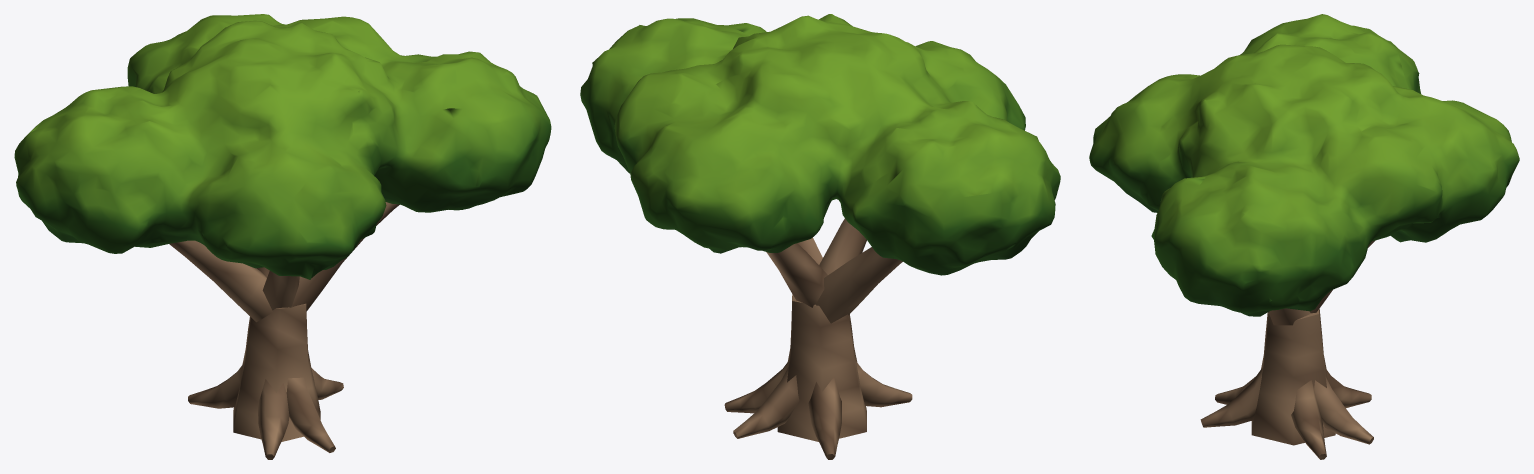
The model's file is SM_StylizedTree2.fbx.
3 views of the same model, side by side, from view 1: azimuth 30°, elevation 25°; view 2: azimuth 150°, elevation 25°; view 3: azimuth 270°, elevation 25° (orthographic). The views are drawn at different scales.
Parts seen in each view (by area): view 1: SM_StylizedTree2; view 2: SM_StylizedTree2; view 3: SM_StylizedTree2.
Part boxes in pixels (x1,y1,x2,y2): SM_StylizedTree2: [14, 14, 551, 459]; SM_StylizedTree2: [580, 14, 1060, 459]; SM_StylizedTree2: [1089, 14, 1519, 459].
Size of what is drawn, in the model's own units: 7.66 by 5.73 by 6.21.
